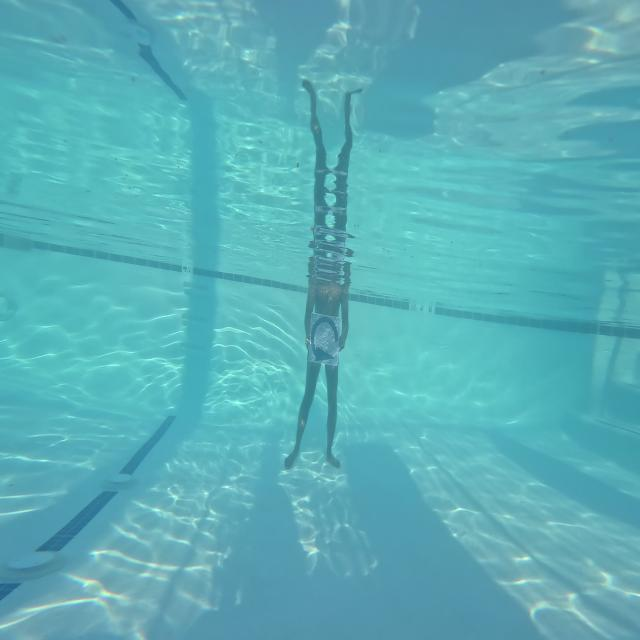blue_side: (308, 316, 339, 365)
